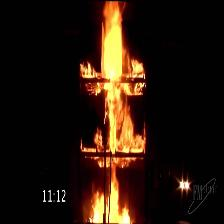fire: (79, 0, 148, 204)
